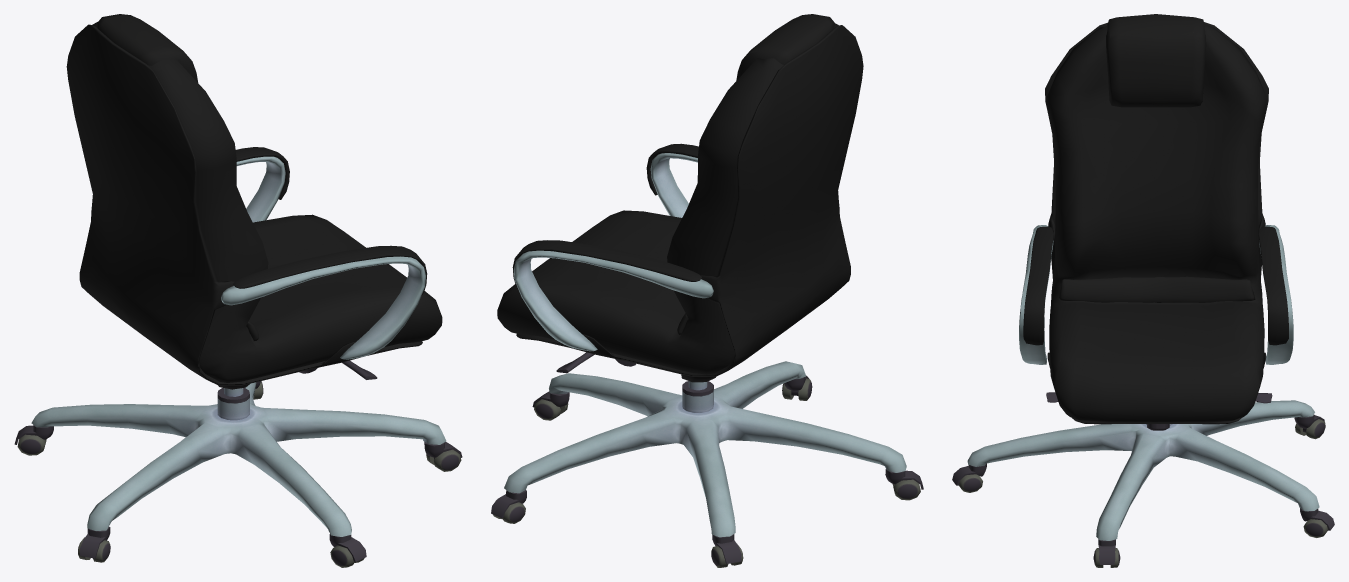
File: officeChair.fbx
3 renders of one model, left to right at view 1: azimuth 30°, elevation 25°; view 2: azimuth 150°, elevation 25°; view 3: azimuth 270°, elevation 25°, orthographic. The views are drawn at different scales.
Parts seen in each view (by area): view 1: officeChair; view 2: officeChair; view 3: officeChair.
Part boxes in pixels (box(x1,y1,x2,y2)): officeChair: box(14, 14, 462, 567); officeChair: box(491, 14, 923, 567); officeChair: box(952, 14, 1334, 567).
Bounding box in the file's own units: 1.32 × 1.58 × 1.28.
Materials: 1 (1 with a texture image).
